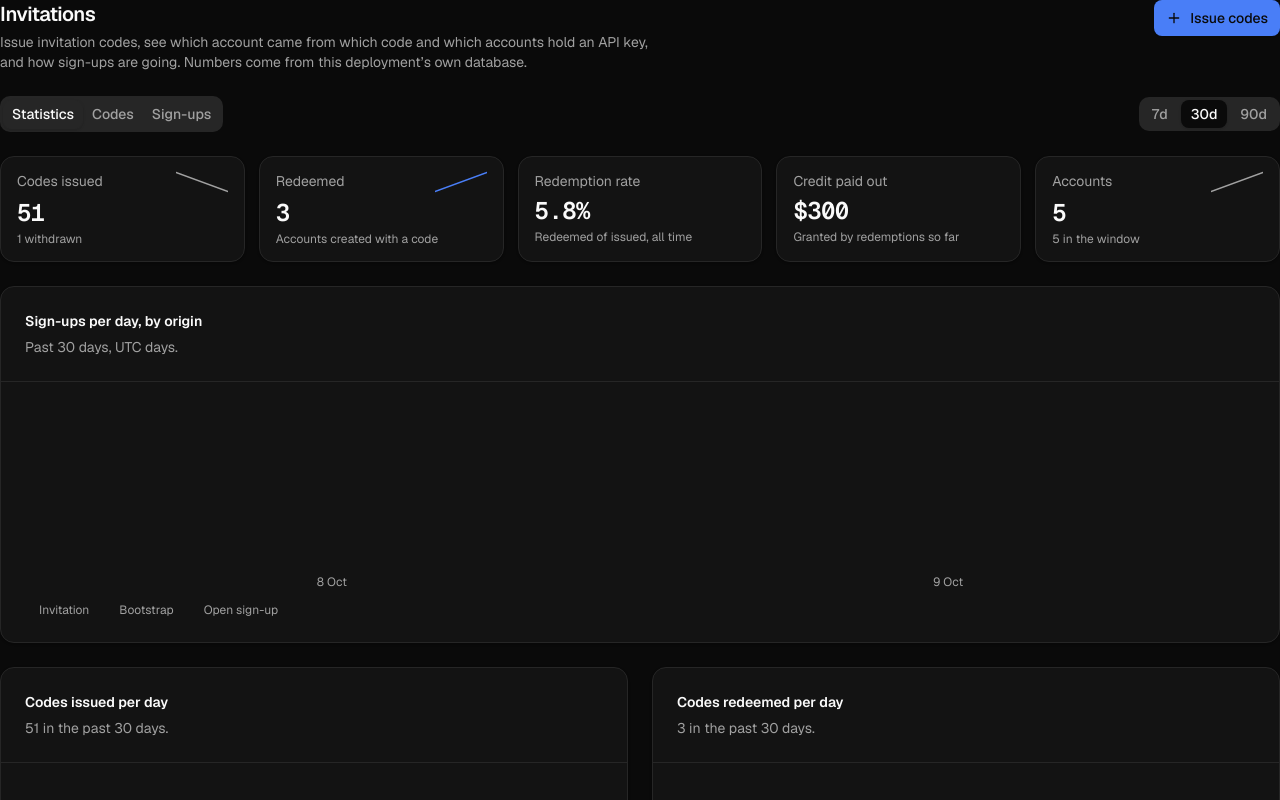
it: InvitationsScreen › issues a batch and shows it once, with copy-all and the CSV
Click the button "Issue codes" at coordinates (1217, 18), box [1154, 0, 1279, 36]
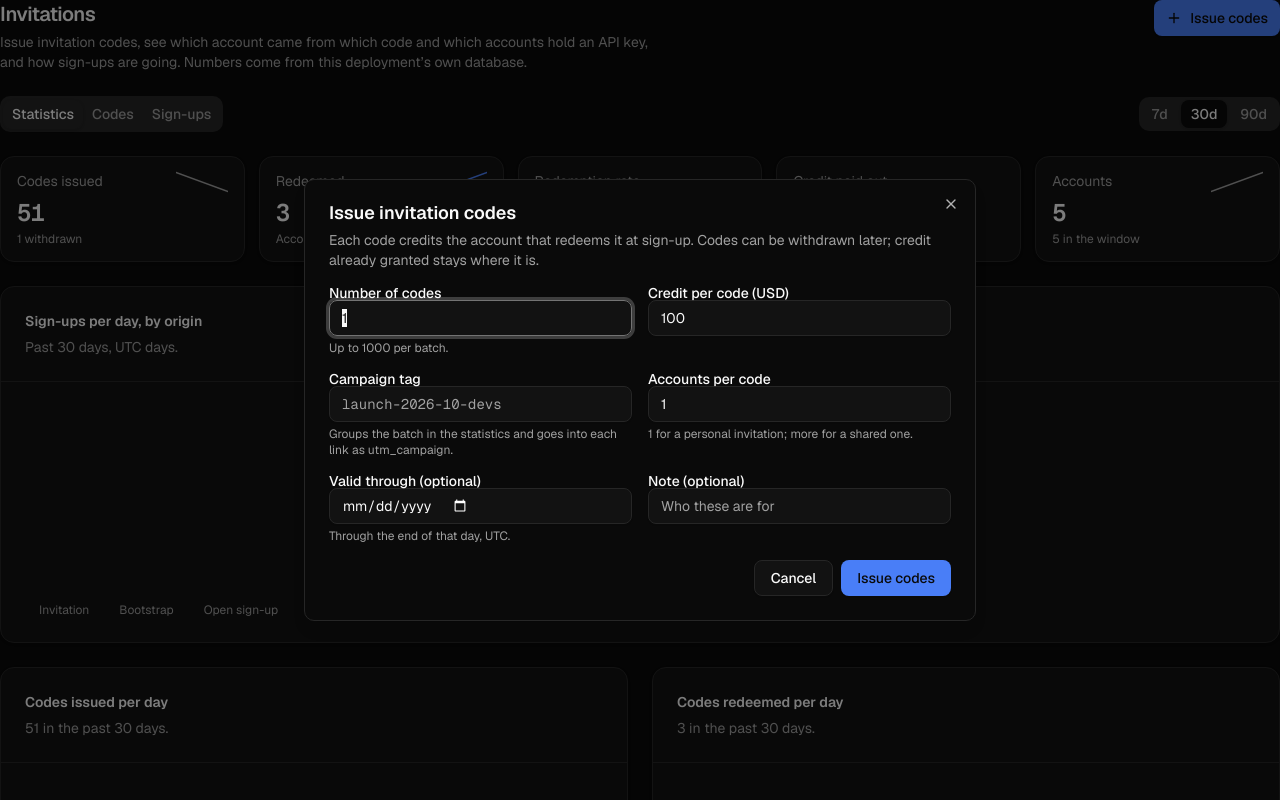
Replace the text in the field labelled "Number of codes" with "3" at coordinates (480, 318), box [329, 300, 632, 336]
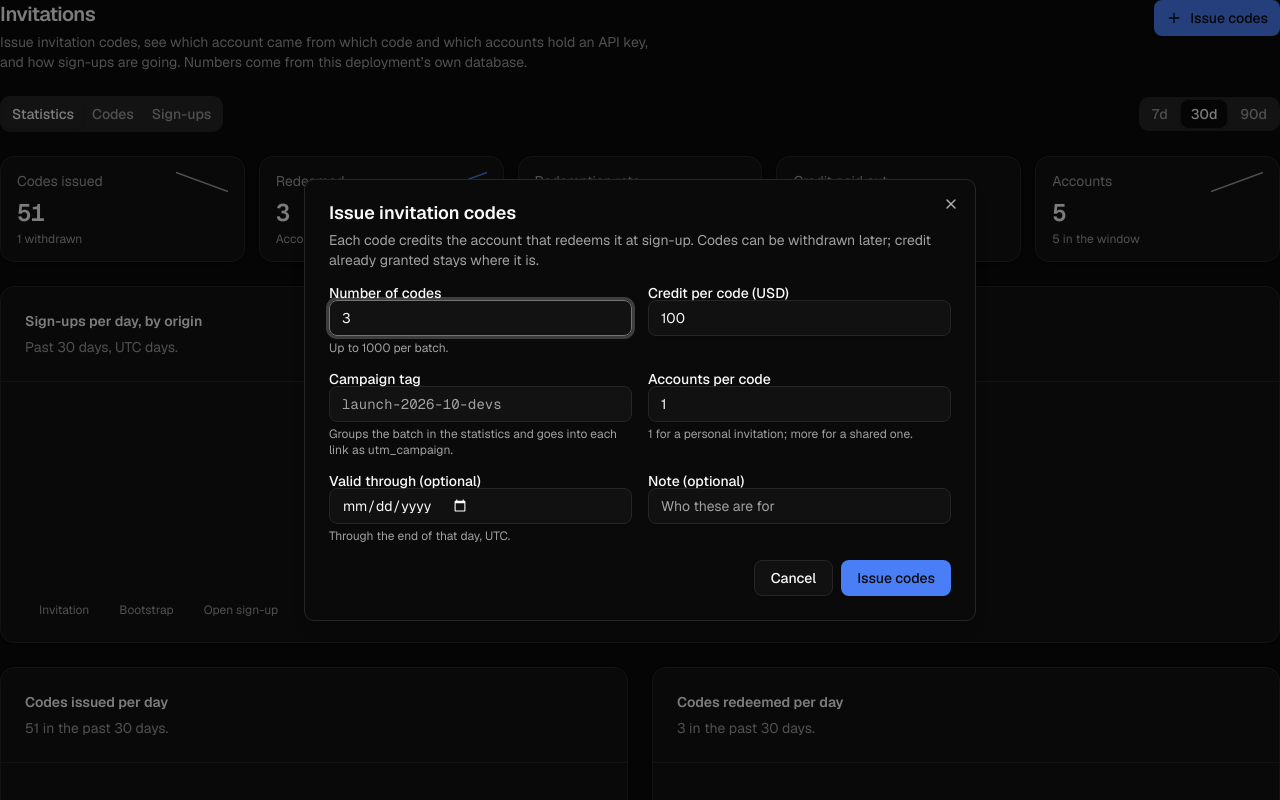
Replace the text in the field labelled "Credit per code (USD)" with "25" at coordinates (800, 318), box [648, 300, 951, 336]
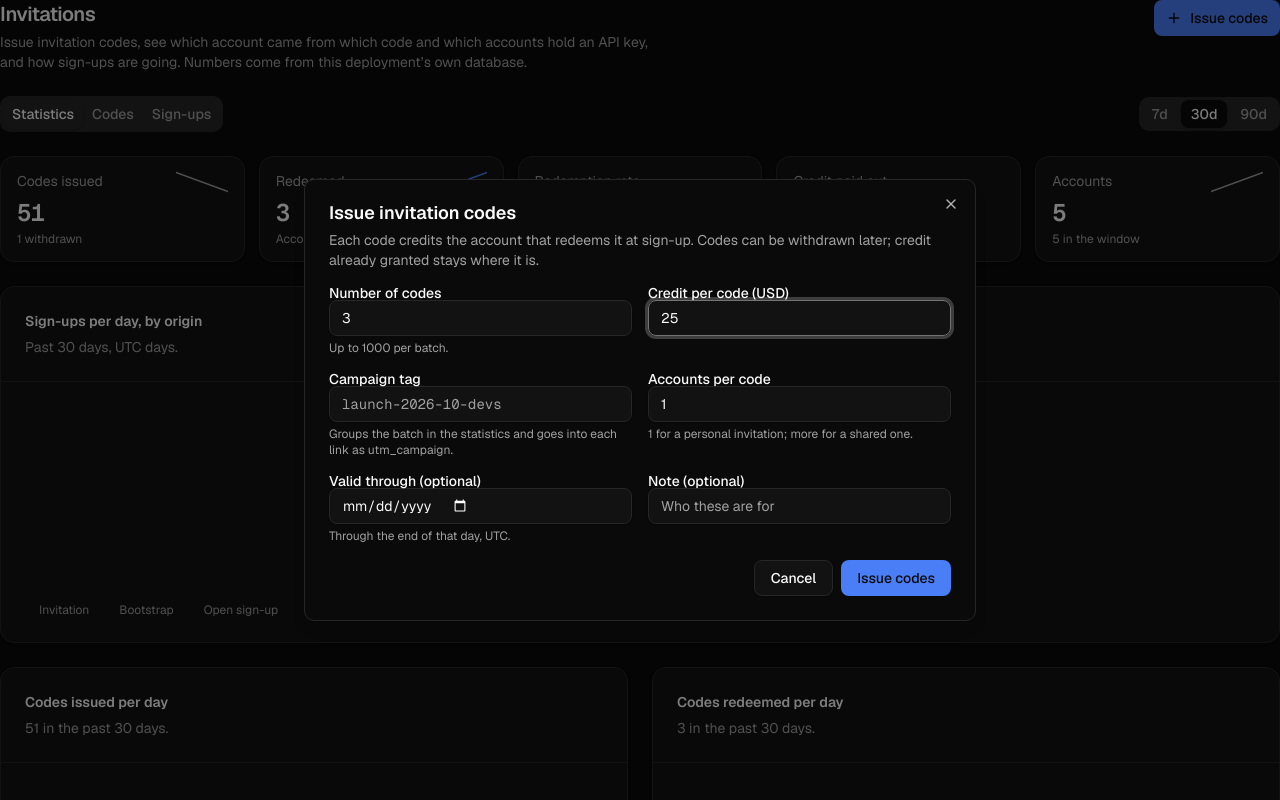
Type "launch" into the field labelled "Campaign tag" at coordinates (480, 404), box [329, 386, 632, 422]
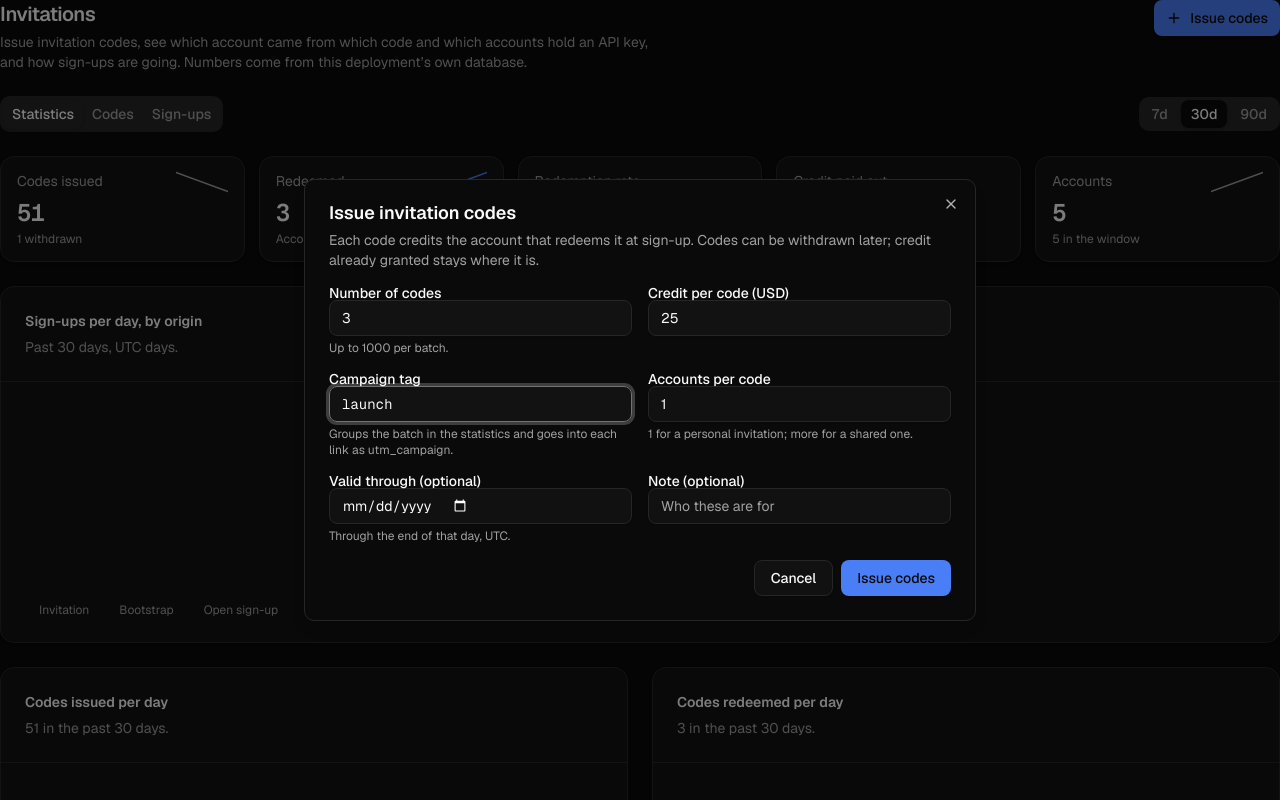
Click the button "Issue codes" at coordinates (896, 578), box [841, 560, 951, 596]
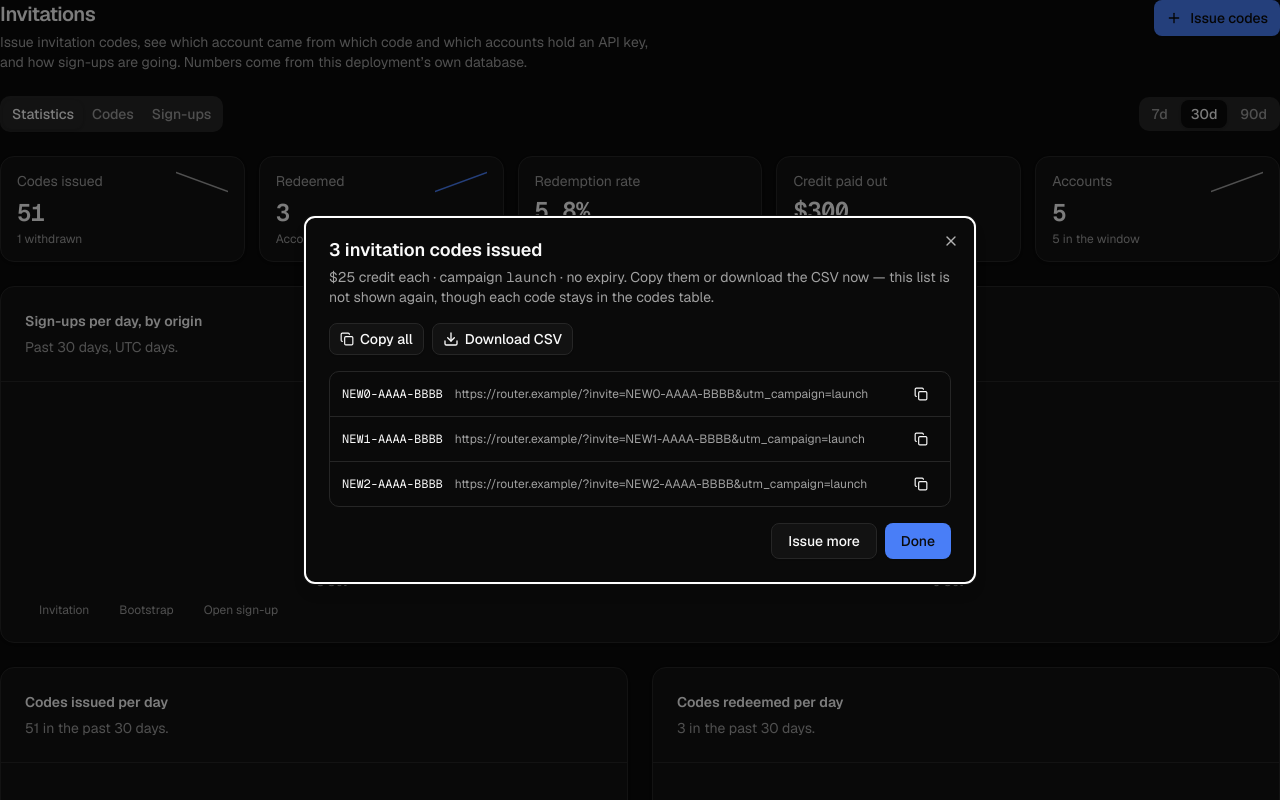
Check: the heading "3 invitation codes issued" is shown, box [329, 238, 542, 261]
Check: the list named "Issued invitation codes" shows "NEW0-AAAA-BBBB", box [342, 386, 443, 402]
Check: the button "Copy all" is shown, box [329, 323, 424, 355]
